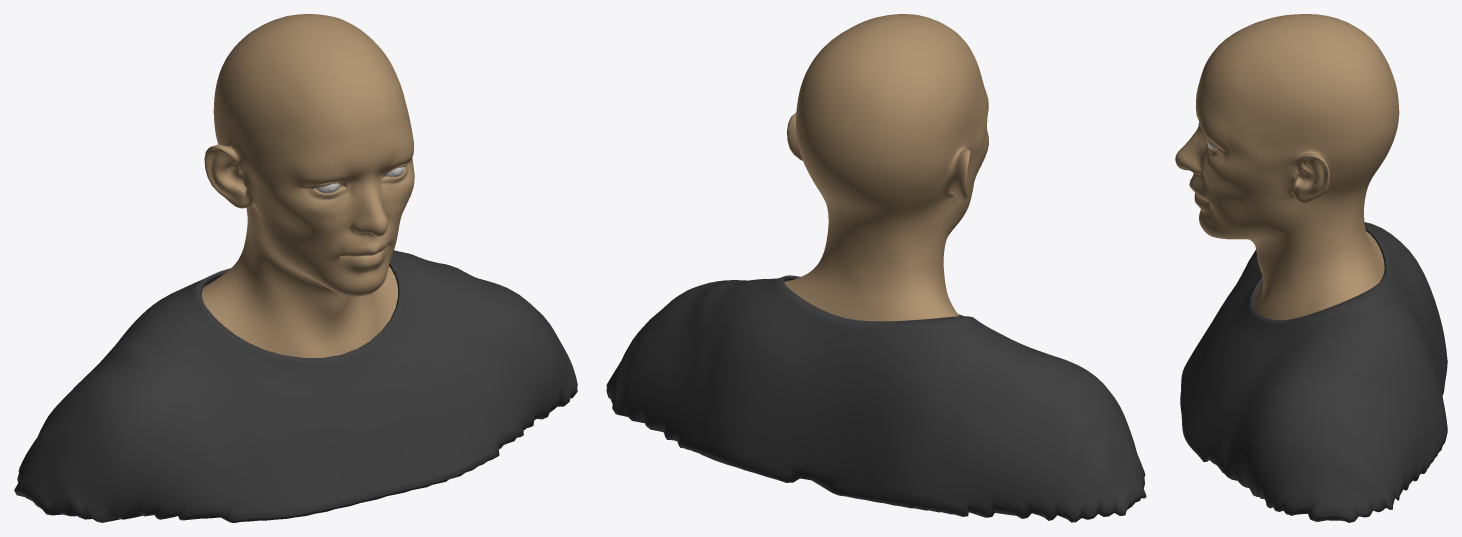
File: head3c.fbx
3 views of the same model, side by side, from view 1: azimuth 30°, elevation 25°; view 2: azimuth 150°, elevation 25°; view 3: azimuth 270°, elevation 25° (orthographic). The views are drawn at different scales.
Visible parts, largest first — view 1: HG_Sweater_1_Male.001, HG_Body.008; view 2: HG_Sweater_1_Male.001, HG_Body.008; view 3: HG_Sweater_1_Male.001, HG_Body.008.
Boxes of the visible parts, bbox=[...] form: HG_Sweater_1_Male.001: bbox=[14, 250, 577, 522]; HG_Body.008: bbox=[201, 14, 414, 357]; HG_Sweater_1_Male.001: bbox=[606, 275, 1146, 522]; HG_Body.008: bbox=[784, 14, 988, 321]; HG_Sweater_1_Male.001: bbox=[1180, 222, 1447, 522]; HG_Body.008: bbox=[1175, 14, 1399, 320].
Bounding box in the file's own units: 63.87 × 48.19 × 30.87.
